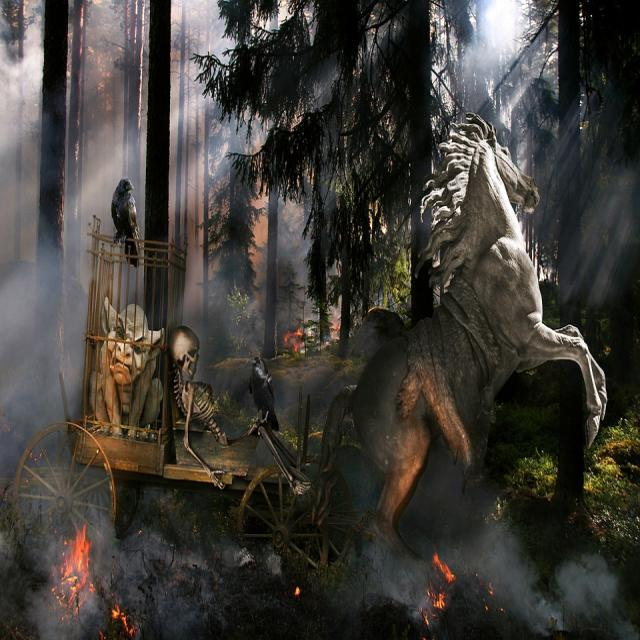Fire: (40, 522, 116, 627), (419, 546, 454, 629), (285, 322, 307, 355)
Smoke: (9, 31, 164, 173), (0, 199, 79, 442), (46, 516, 198, 621), (450, 510, 560, 635), (363, 544, 419, 613)
